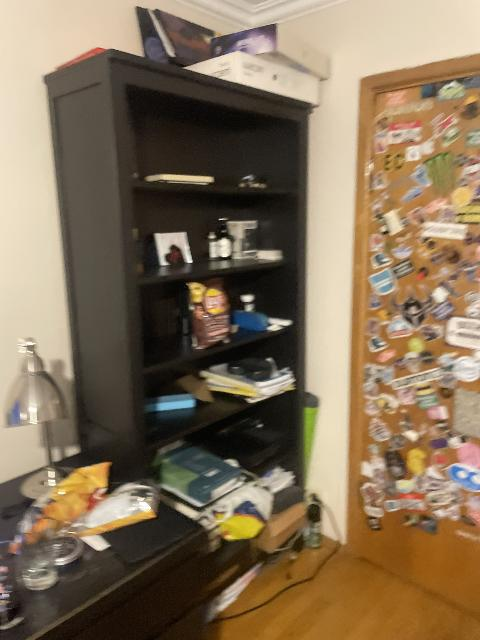Chio Cascaval 125g: (19, 460, 113, 544)
Chio Hula Hoops Cheese 70g: (70, 481, 160, 539)
Lays Beef Grilled Ribs 125g: (180, 275, 232, 349)
